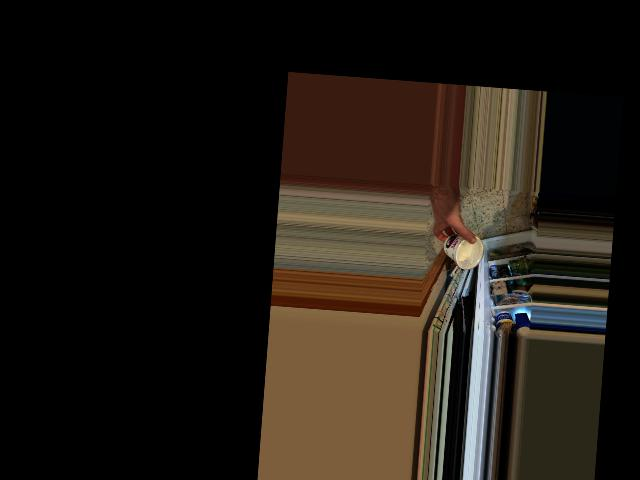cotage: (438, 227, 484, 271)
